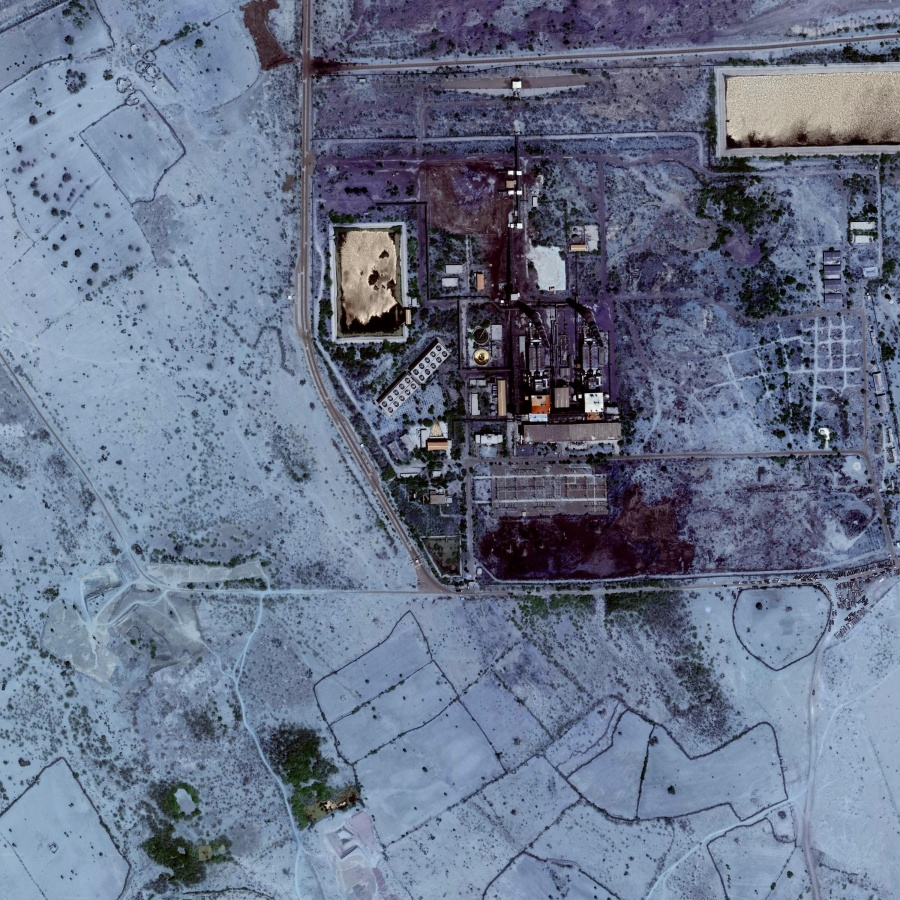PowerPlant: (316, 139, 687, 577)
